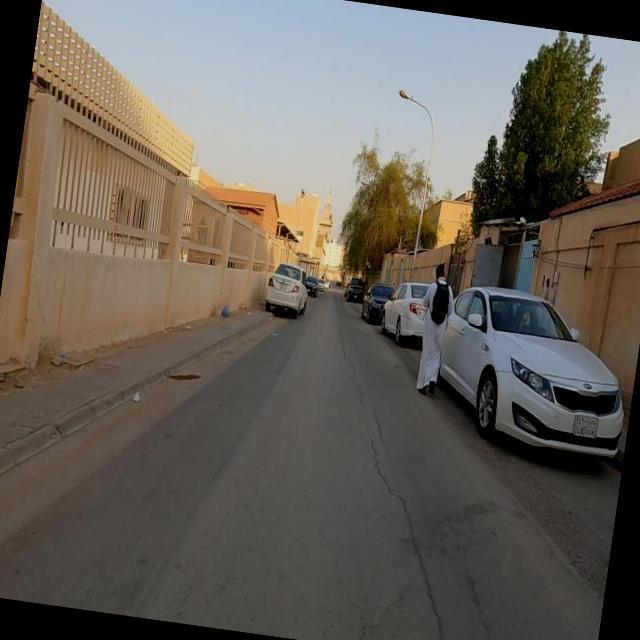debris: (186, 262, 258, 356), (95, 356, 168, 444)
